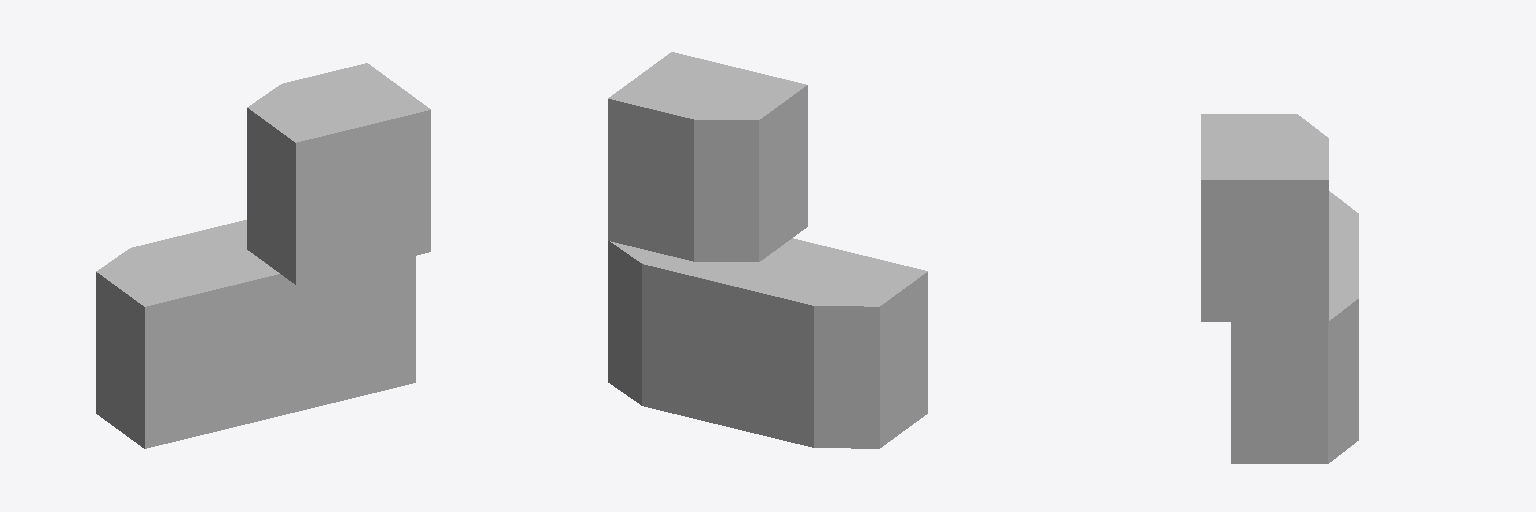
The model's file is mylandscaping_block1_bot_l.obj.
3 views of the same model, side by side, from view 1: azimuth 30°, elevation 25°; view 2: azimuth 150°, elevation 25°; view 3: azimuth 270°, elevation 25° (orthographic).
Visible parts, largest first — view 1: Block_Right_Bottom_Cube.024; view 2: Block_Right_Bottom_Cube.024; view 3: Block_Right_Bottom_Cube.024.
Boxes of the visible parts, x1=… form: Block_Right_Bottom_Cube.024: x1=96, y1=63, x2=430, y2=448; Block_Right_Bottom_Cube.024: x1=608, y1=52, x2=927, y2=448; Block_Right_Bottom_Cube.024: x1=1201, y1=114, x2=1358, y2=463.
Size of the model in its own units: 1 by 1 by 0.5054.